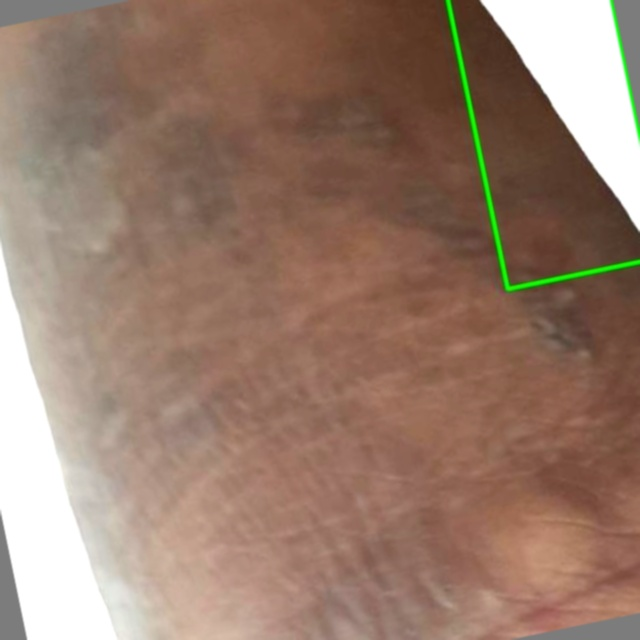Contact Dermatitis: (448, 0, 639, 289)
